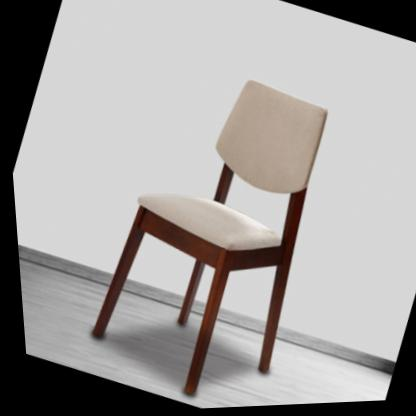Chair: (57, 48, 361, 414)
Wooden floor: (14, 245, 385, 410)
